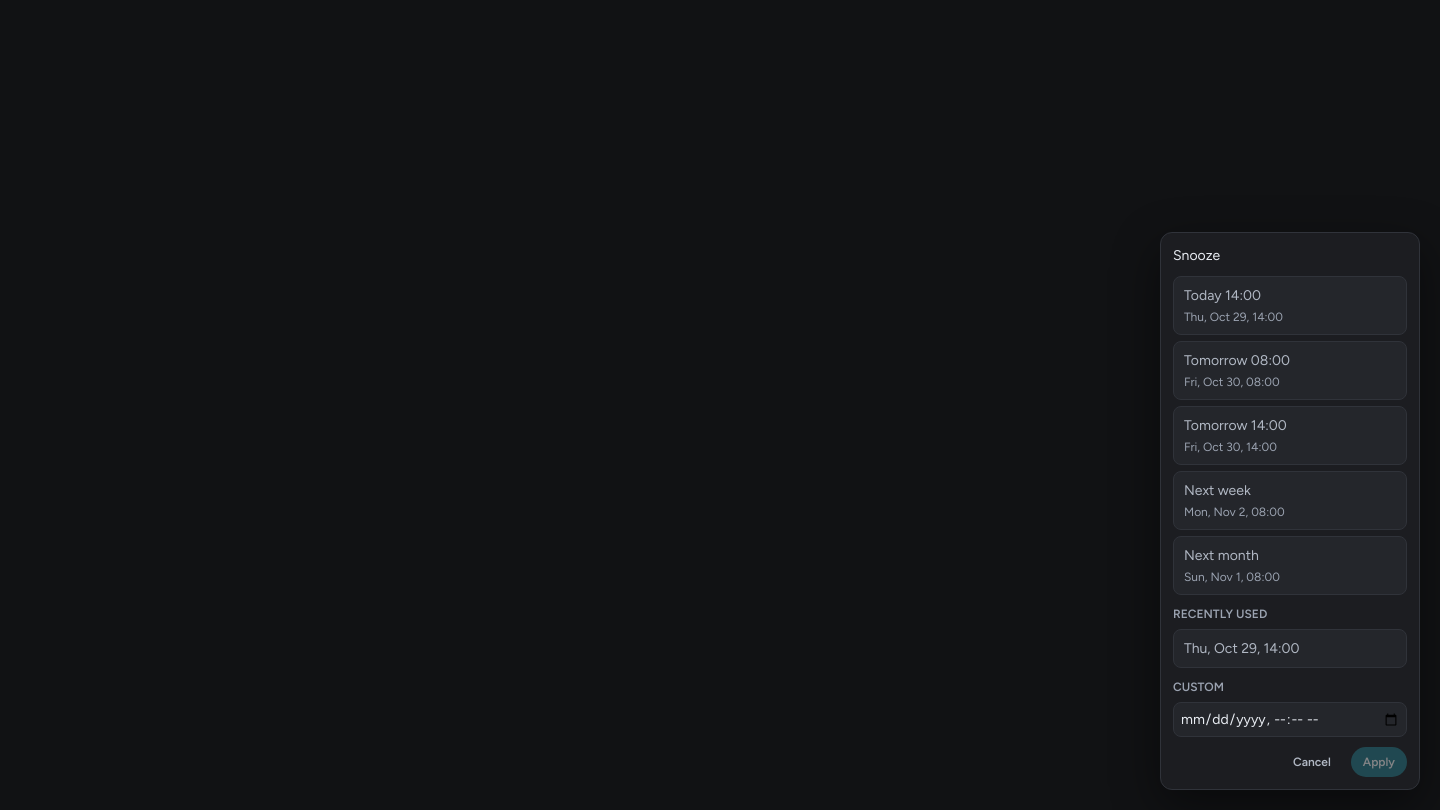
Test: removes expired recents and presets and explains a manual time expiring while open
This screenshot has width=1440, height=810.
Expected: the number of buttons with class "recent-item" is 1, [1173,629,1407,668]
Type "2026-10-29T14:00" into the field labelled "Custom" at coordinates (1290, 720), box [1173,702,1407,737]
Wait 60000 ms
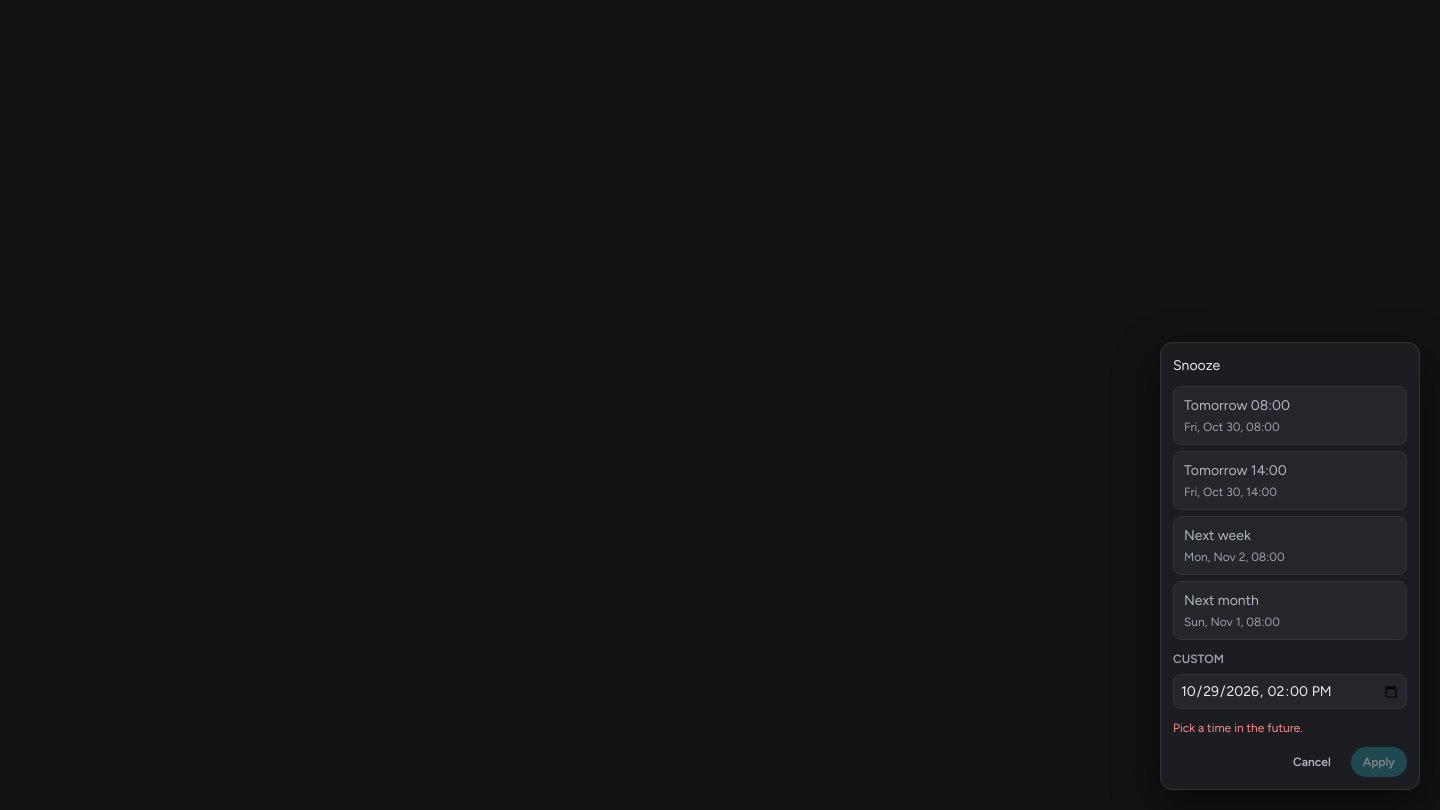
Now no buttons with class "recent-item" are shown
Now the button "Today 14:00" no longer shows "Today"
Now the message "Pick a time in the future." is shown, box [1173,721,1303,735]
